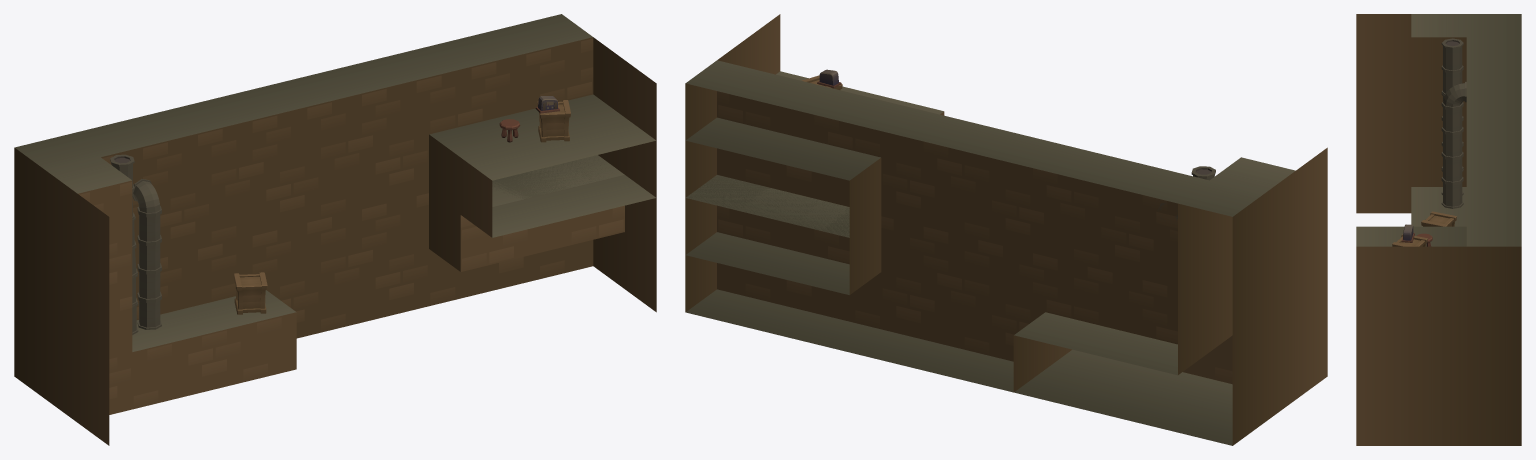
File: Room30_8x20.fbx
The picture shows the model from 3 angles, left to right: view 1: azimuth 30°, elevation 25°; view 2: azimuth 150°, elevation 25°; view 3: azimuth 270°, elevation 25°; orthographic projection. The views are drawn at different scales.
Parts seen in each view (by area): view 1: Room30_8x20; view 2: Room30_8x20; view 3: Room30_8x20.
Boxes of the visible parts, box(x1,y1,x2,y2) form: Room30_8x20: box(14, 14, 656, 445); Room30_8x20: box(685, 14, 1327, 445); Room30_8x20: box(1356, 14, 1521, 445).
Size of the model in its own units: 2000 by 600 by 800.
